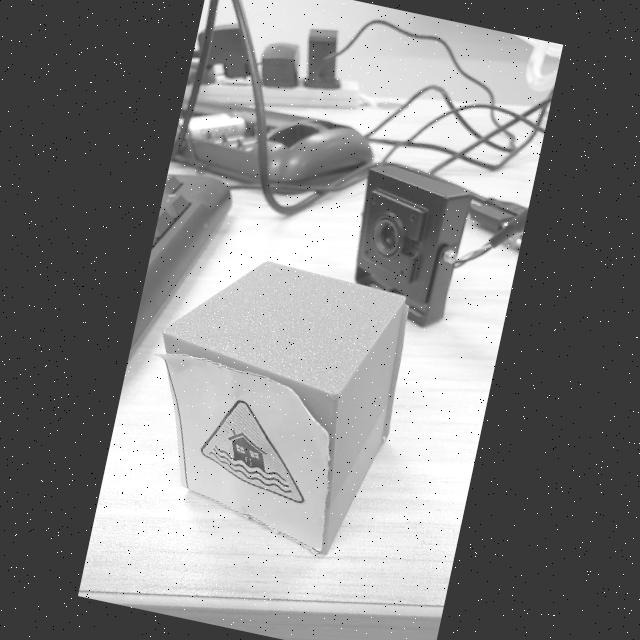Tsunami: (201, 400, 303, 502)
